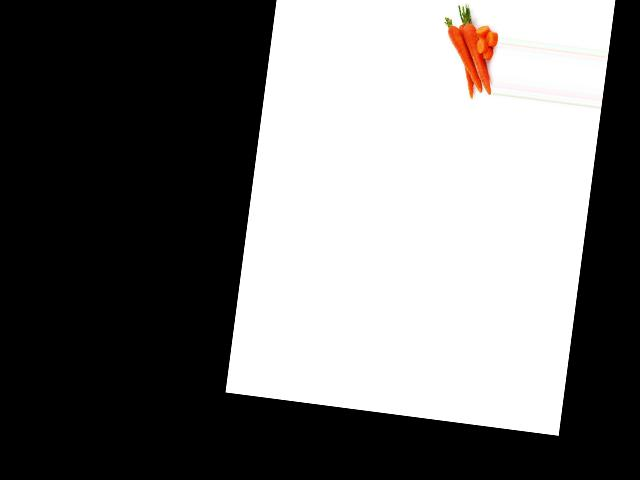carrot: (453, 14, 500, 94)
